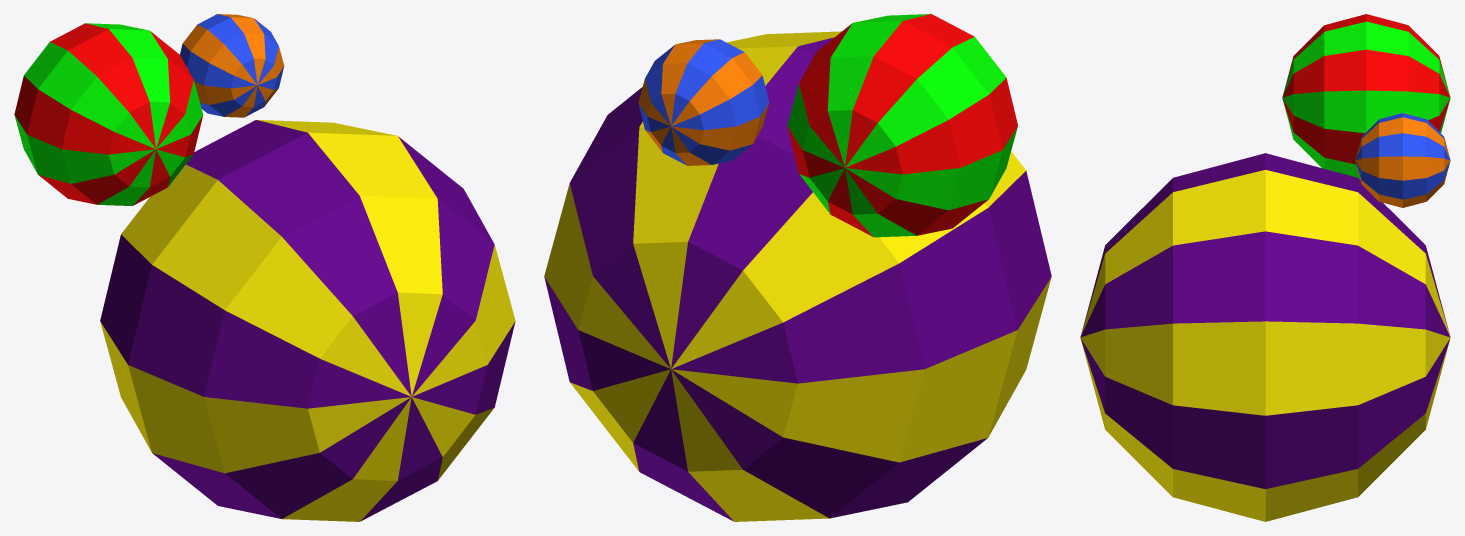
Rendered from circus ball FBX.fbx.
3 views of the same model, side by side, from view 1: azimuth 30°, elevation 25°; view 2: azimuth 150°, elevation 25°; view 3: azimuth 270°, elevation 25° (orthographic). The views are drawn at different scales.
Parts seen in each view (by area): view 1: Object_29, Object_30, Object_28, Object_31, Object_27, Object_32, Object_26, Object_17, Object_33, Object_18, Object_25, Object_16 (+18 smaller); view 2: Object_30, Object_31, Object_28, Object_29, Object_32, Object_27, Object_26, Object_17, Object_33, Object_18, Object_25, Object_16 (+19 smaller); view 3: Object_25, Object_26, Object_36, Object_27, Object_35, Object_14, Object_28, Object_13, Object_15, Object_24, Object_1, Object_2 (+5 smaller).
Boxes of the visible parts, x1,y1,x2,y2 form: Object_29: (121, 164, 411, 396); Object_30: (100, 234, 410, 408); Object_28: (186, 120, 411, 396); Object_31: (100, 322, 410, 473); Object_27: (257, 120, 442, 396); Object_32: (152, 397, 411, 518); Object_26: (398, 136, 494, 395); Object_17: (24, 42, 155, 148); Object_33: (282, 397, 411, 521); Object_18: (14, 76, 155, 154); Object_25: (412, 245, 515, 396); Object_16: (50, 23, 155, 148); Object_30: (671, 171, 1051, 383); Object_31: (672, 277, 1051, 462); Object_28: (671, 37, 834, 368); Object_29: (671, 151, 1025, 368); Object_32: (671, 369, 987, 518); Object_27: (633, 31, 841, 368); Object_26: (570, 87, 670, 368); Object_17: (845, 37, 1006, 167); Object_33: (671, 369, 829, 521); Object_18: (845, 78, 1017, 174); Object_25: (544, 183, 670, 368); Object_16: (845, 14, 974, 167); Object_25: (1080, 321, 1450, 415); Object_26: (1080, 231, 1450, 337); Object_36: (1080, 338, 1450, 488); Object_27: (1080, 170, 1450, 336); Object_35: (1081, 340, 1449, 521); Object_14: (1282, 49, 1450, 97); Object_28: (1081, 153, 1449, 332); Object_13: (1282, 90, 1450, 133); Object_15: (1282, 21, 1450, 96); Object_24: (1282, 98, 1450, 164); Object_1: (1355, 156, 1450, 180); Object_2: (1355, 133, 1450, 160).
Bounding box in the file's own units: 494 × 553 × 440.
